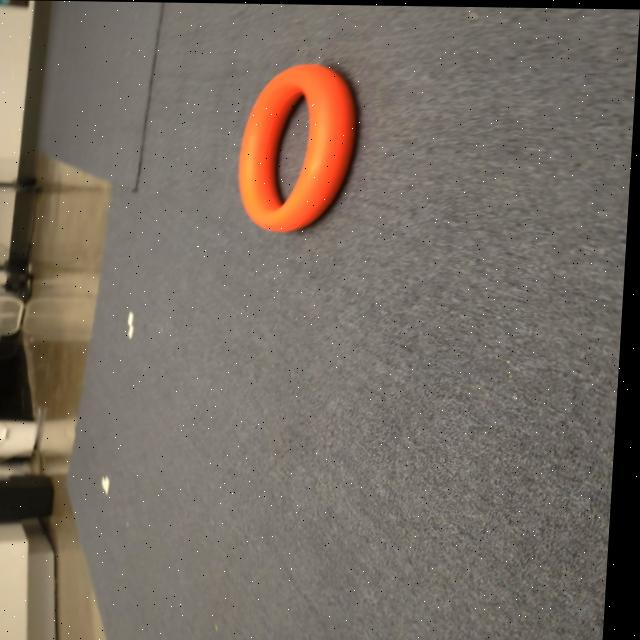note: (237, 62, 361, 230)
